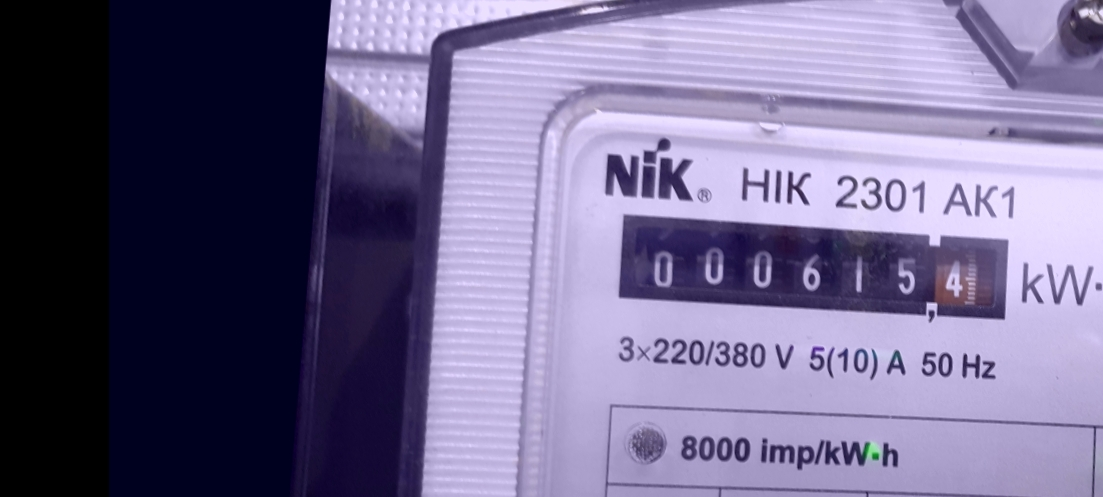0: (748, 246, 776, 291), (649, 246, 677, 289), (701, 244, 727, 285)
1: (851, 252, 867, 294)
4: (943, 256, 965, 298)
5: (893, 253, 920, 297)
6: (798, 250, 825, 292)
screen: (602, 194, 1025, 342)
